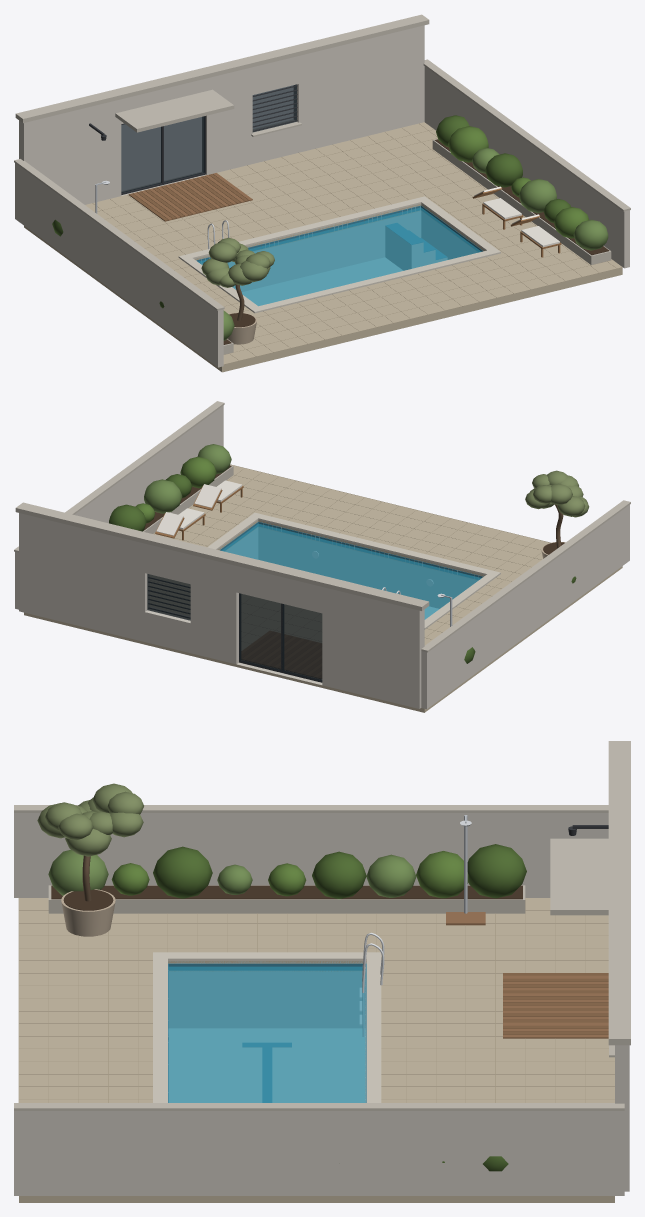
The model's file is backyard.glb.
The picture shows the model from 3 angles, top to bottom: view 1: azimuth 30°, elevation 25°; view 2: azimuth 150°, elevation 25°; view 3: azimuth 270°, elevation 25°; orthographic projection. The views are drawn at different scales.
Visible parts, largest first — view 1: deck, wall, gardenWallL, water, backyard, plants, gardenWallR, poolBasin, parapet, doorGlass, coping, olive (+10 smaller); view 2: wall, deck, gardenWallL, water, poolBasin, backyard, doorGlass, parapet, plants, gardenWallR, coping, woodDeck (+6 smaller); view 3: deck, gardenWallR, water, gardenWallL, plants, backyard, poolFloor, poolBasin, olive, parapet, woodDeck, coping (+4 smaller).
Boxes of the visible parts, x1,y1,x2,y2 form: deck: [24, 122, 622, 372]; wall: [19, 25, 424, 204]; gardenWallL: [15, 163, 223, 367]; water: [198, 207, 481, 305]; backyard: [14, 59, 630, 364]; plants: [52, 115, 611, 354]; gardenWallR: [424, 66, 629, 268]; poolBasin: [196, 204, 484, 291]; parapet: [15, 14, 429, 123]; doorGlass: [121, 116, 204, 192]; coping: [178, 196, 500, 313]; olive: [201, 237, 274, 344]; wall: [19, 513, 424, 708]; deck: [24, 464, 622, 712]; gardenWallL: [421, 505, 629, 708]; water: [222, 524, 481, 619]; poolBasin: [219, 520, 483, 608]; backyard: [14, 401, 630, 652]; doorGlass: [239, 593, 322, 681]; parapet: [15, 502, 429, 610]; plants: [109, 444, 576, 663]; gardenWallR: [15, 405, 223, 609]; coping: [207, 512, 500, 629]; woodDeck: [241, 631, 321, 678]; deck: [19, 898, 614, 1202]; gardenWallR: [14, 1111, 624, 1195]; water: [168, 966, 365, 1102]; gardenWallL: [14, 813, 608, 897]; plants: [48, 844, 526, 1171]; backyard: [14, 805, 624, 1110]; poolFloor: [169, 1028, 365, 1102]; poolBasin: [168, 961, 366, 1046]; olive: [37, 783, 143, 936]; parapet: [608, 741, 630, 1045]; woodDeck: [503, 973, 608, 1038]; coping: [153, 952, 381, 1102].
Size of what is drawn, in the model's own units: 14.57 by 4.99 by 12.43.
